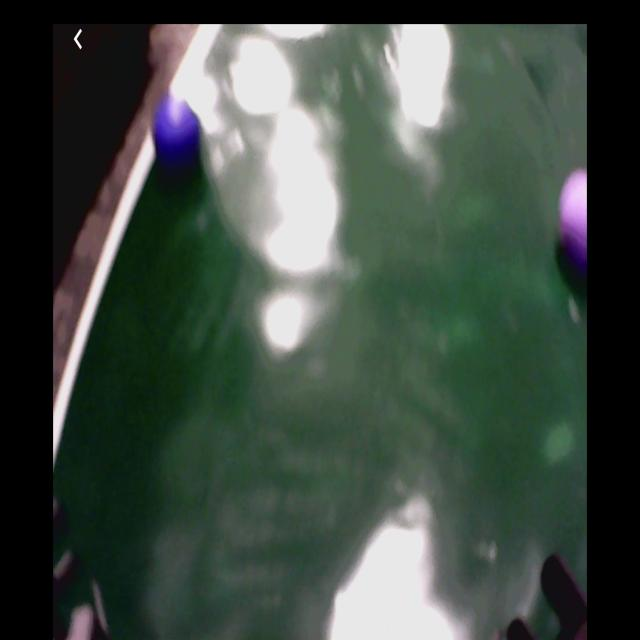ball: (156, 97, 200, 164), (561, 172, 588, 275)
